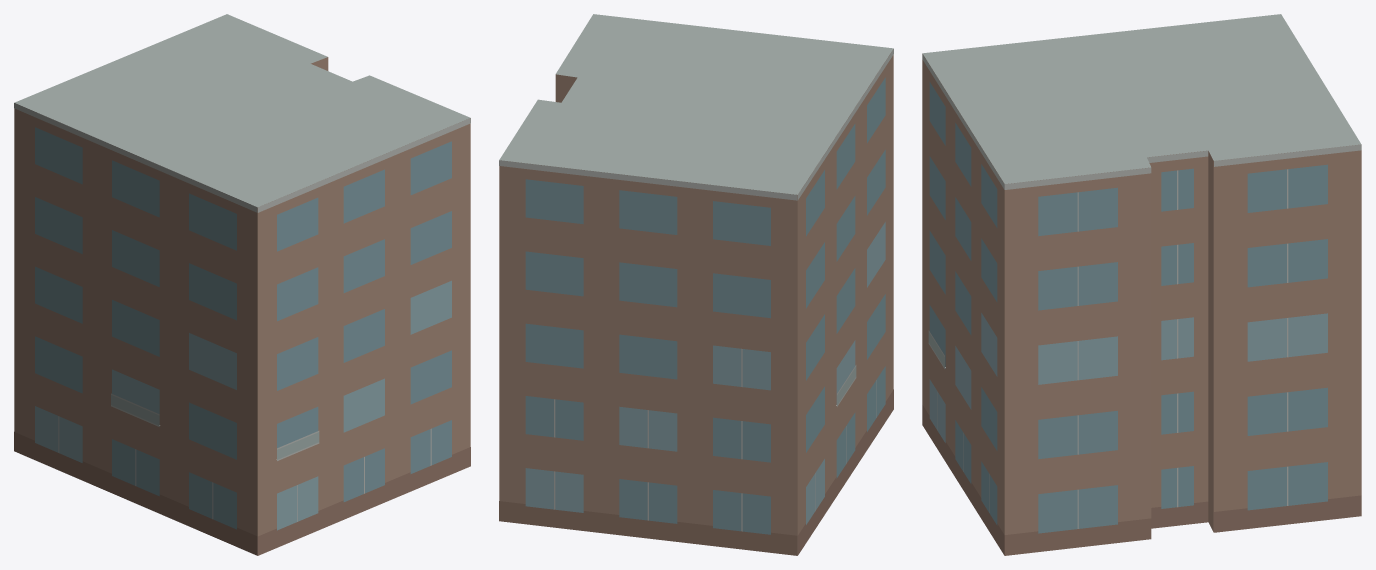
The model's file is survey-upis-32721317.glb.
3 views of the same model, side by side, from view 1: azimuth 30°, elevation 25°; view 2: azimuth 150°, elevation 25°; view 3: azimuth 270°, elevation 25° (orthographic). The views are drawn at different scales.
Parts seen in each view (by area): view 1: survey-upis-32721317.tmp; view 2: survey-upis-32721317.tmp; view 3: survey-upis-32721317.tmp.
Boxes of the visible parts, x1,y1,x2,y2 form: survey-upis-32721317.tmp: (14, 14, 470, 555); survey-upis-32721317.tmp: (499, 14, 893, 555); survey-upis-32721317.tmp: (922, 14, 1361, 555).
Size of the model in its own units: 14.98 by 15.25 by 16.34.
